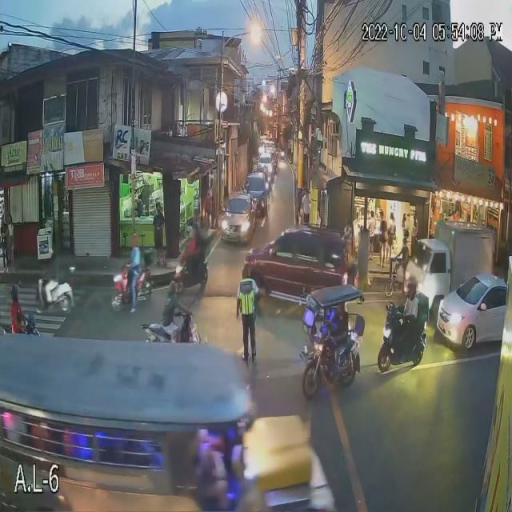helmet: (165, 283, 187, 303), (403, 278, 417, 299), (181, 222, 194, 242), (129, 235, 140, 250), (10, 287, 20, 303)
motorcycle: (376, 300, 428, 374), (141, 304, 206, 345), (159, 256, 208, 310), (110, 261, 154, 313), (34, 263, 76, 313), (16, 311, 43, 337)
rider: (394, 280, 425, 352), (173, 222, 203, 284), (163, 284, 195, 342), (124, 235, 145, 312), (8, 286, 29, 335), (42, 248, 58, 302)
